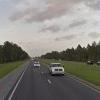Tree: (53, 36, 100, 69)
